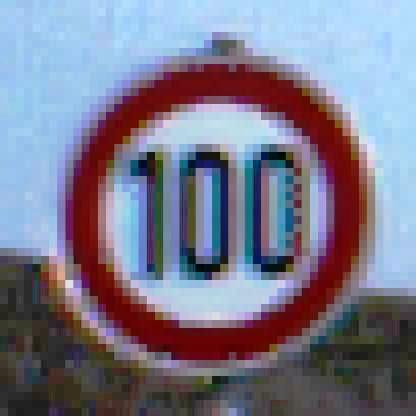Speed Limit -100-: (49, 56, 377, 378)
